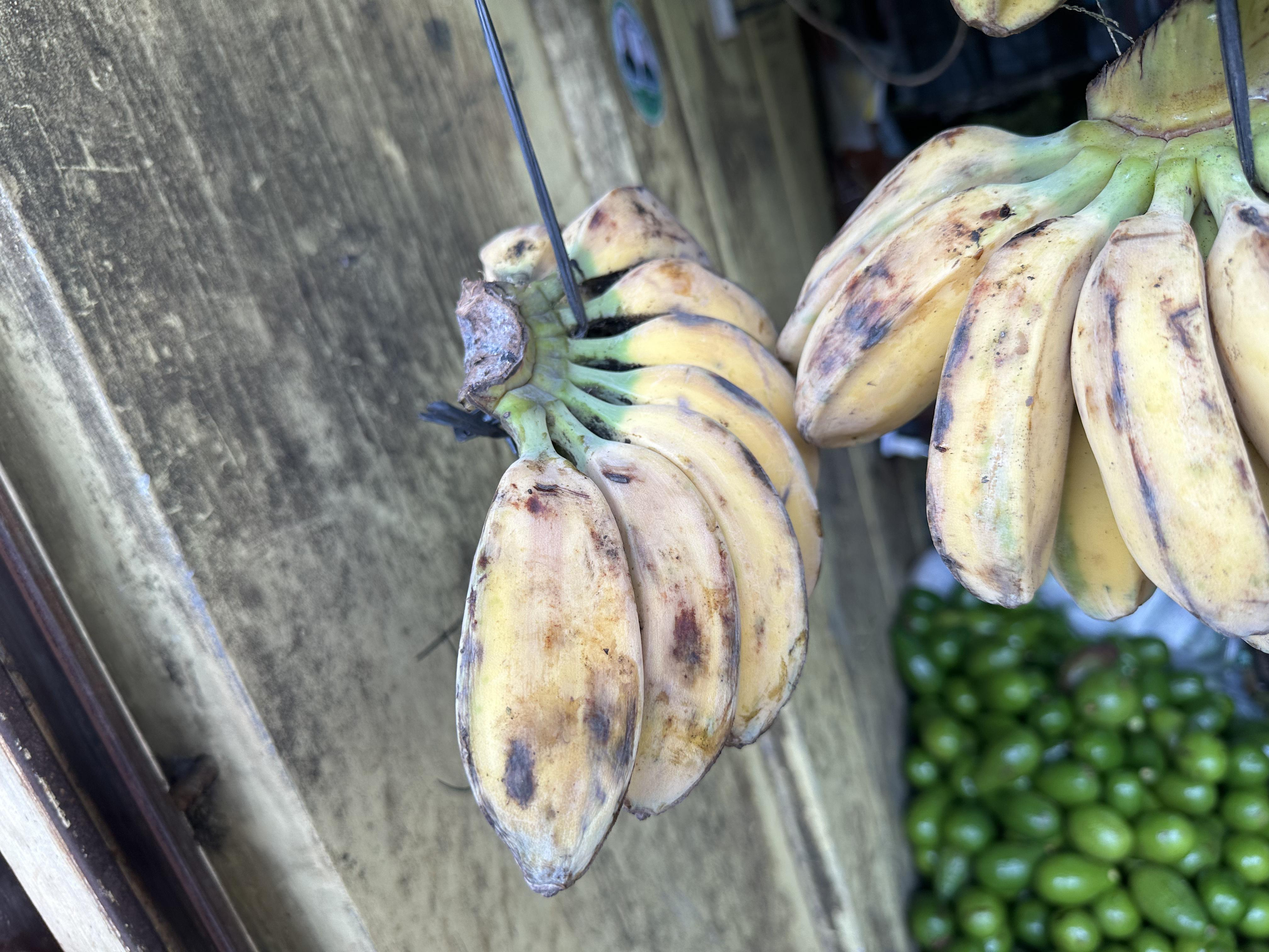ripe: (456, 187, 821, 894)
underripe: (777, 126, 1269, 653)
